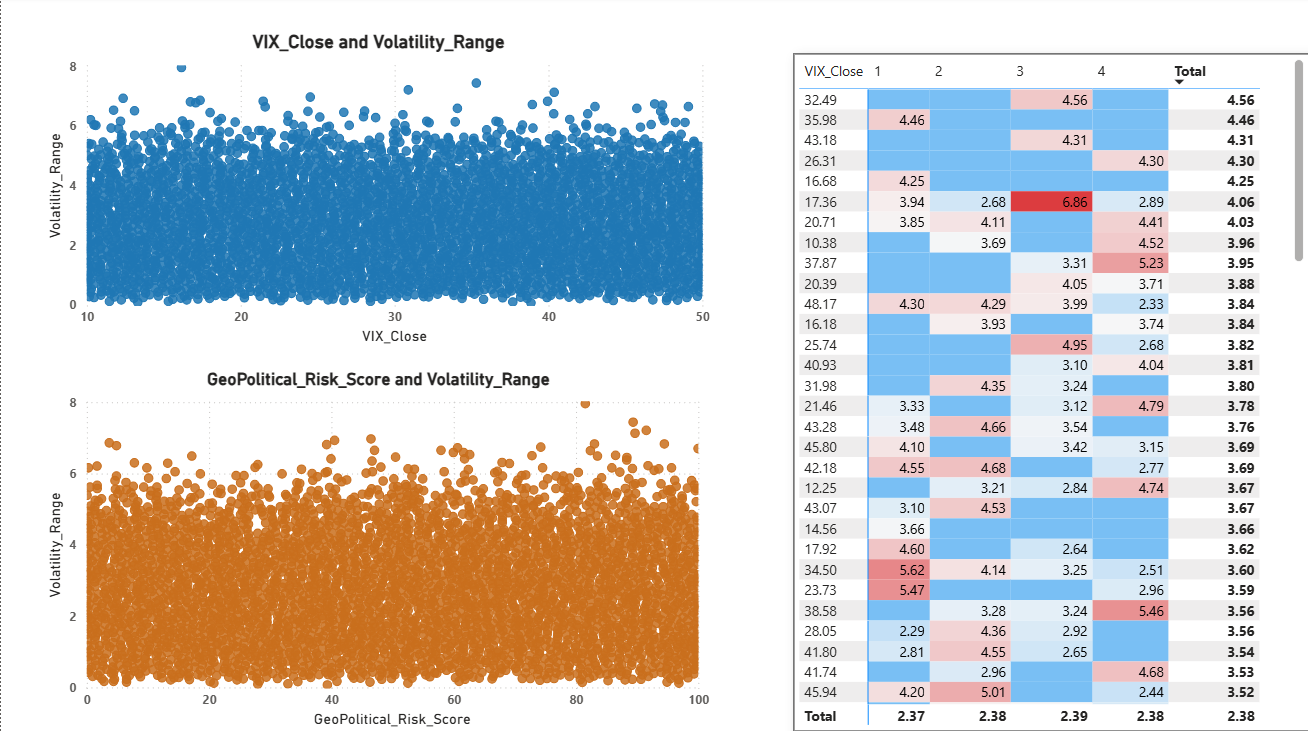

Layout of this report page (visuals, bound fields, positions):
{"tool":"powerbi","page":{"name":"Risk Analysis","canvas":[1280,720],"ordinal":1},"visuals":[{"type":"scatterChart","fields":{"X":["Market_Trend_External.VIX_Close"],"Y":["Market_Trend_External.Volatility_Range"]},"box":[40,34,658,312],"z":0},{"type":"scatterChart","fields":{"X":["Market_Trend_External.GeoPolitical_Risk_Score"],"Y":["Market_Trend_External.Volatility_Range"]},"box":[40,364,658,356],"z":1000},{"type":"pivotTable","fields":{"Rows":["Market_Trend_External.VIX_Close"],"Values":["Avg(Market_Trend_External.Volatility_Range)"],"Columns":["Market_Trend_External.Quarter"]},"box":[775,56.7,505,663.3],"z":2000}]}

Visuals, with their boxes in screenshot pixels (x1, y1, x2, y2), scaled from the page's 1280x720 canvas onto the 1308x731 screenshot:
scatterChart - Market_Trend_External.VIX_Close x Market_Trend_External.Volatility_Range: x1=41, y1=35, x2=713, y2=351
scatterChart - Market_Trend_External.GeoPolitical_Risk_Score x Market_Trend_External.Volatility_Range: x1=41, y1=370, x2=713, y2=730
pivotTable - Market_Trend_External.VIX_Close x Avg(Market_Trend_External.Volatility_Range): x1=792, y1=58, x2=1307, y2=730
